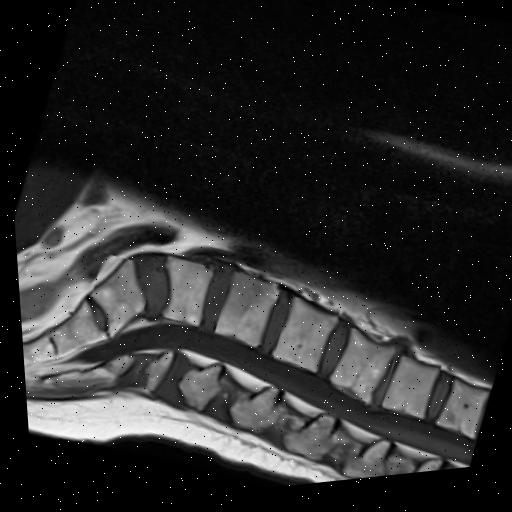L1: (375, 364, 433, 427)
L2: (324, 335, 389, 410)
L3: (267, 303, 332, 377)
L4: (209, 276, 274, 350)
L5: (157, 260, 206, 329)
S1: (85, 262, 140, 338)
